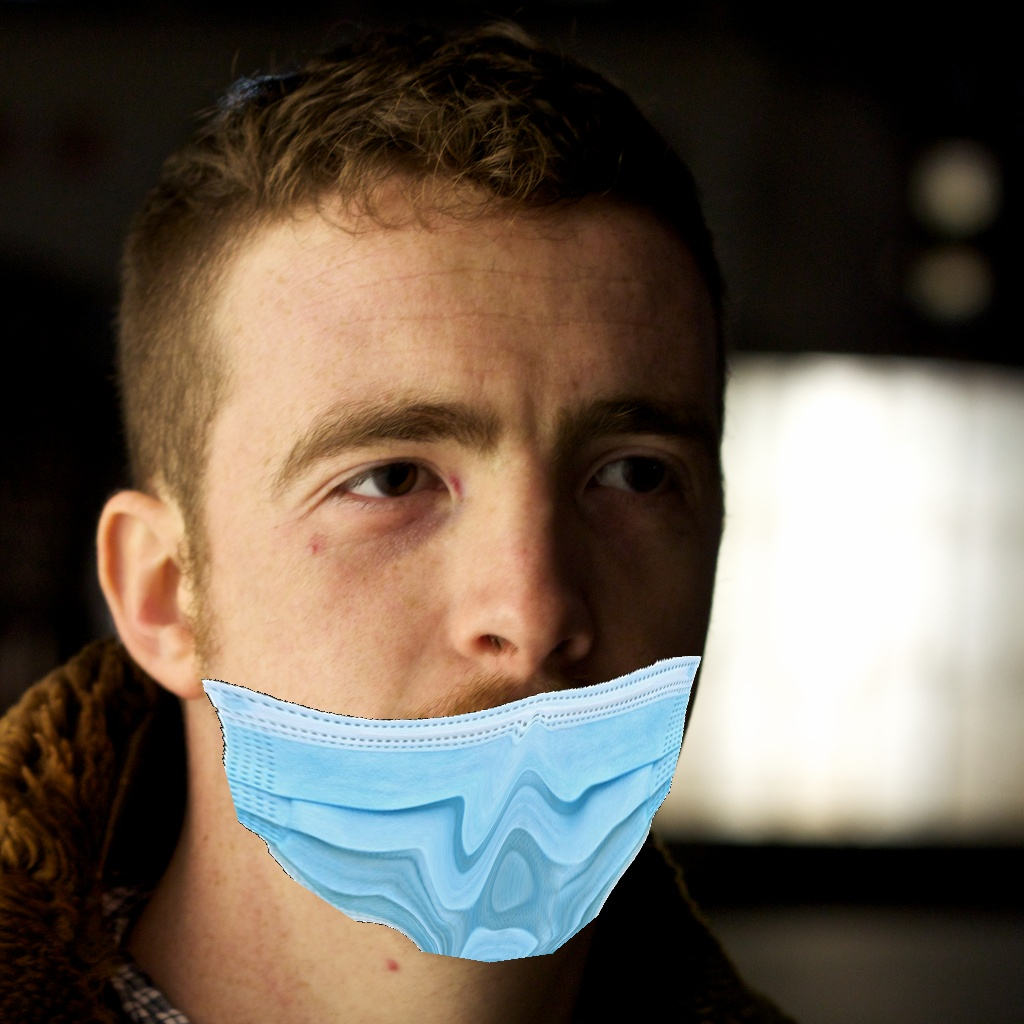mascarilla_mal_puesta: (207, 348, 772, 950)
